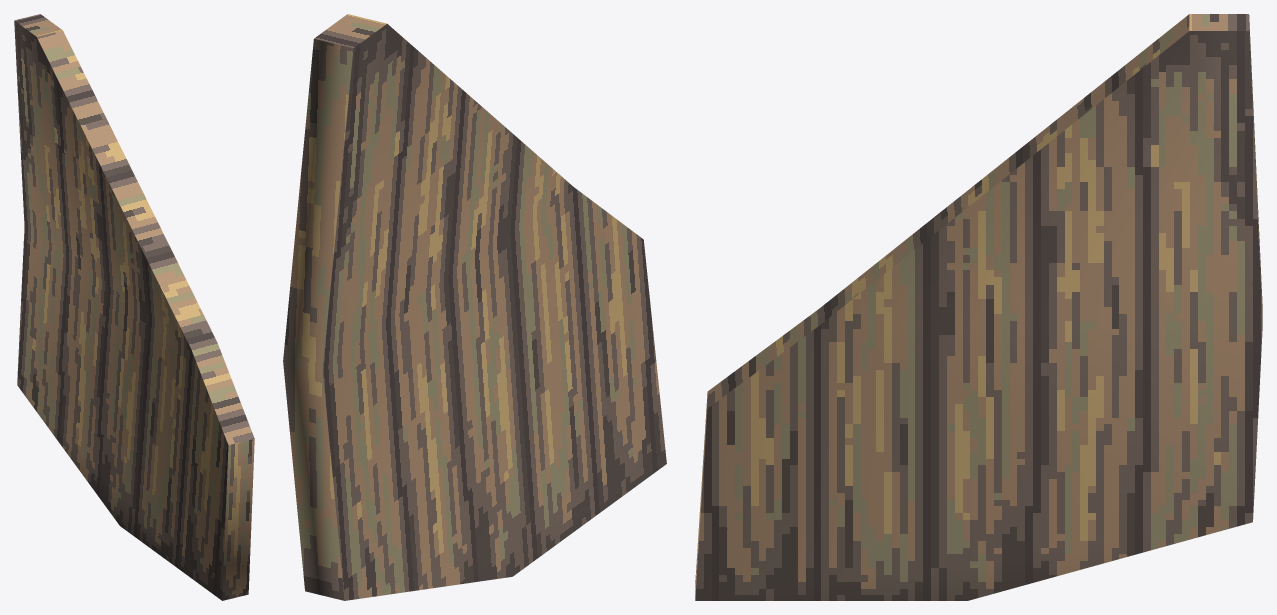
File: barrel_gib_03.glb
3 renders of one model, left to right at view 1: azimuth 30°, elevation 25°; view 2: azimuth 150°, elevation 25°; view 3: azimuth 270°, elevation 25°, orthographic. The views are drawn at different scales.
Parts seen in each view (by area): view 1: gib#2; view 2: gib#2; view 3: gib#2.
Boxes of the visible parts, x1,y1,x2,y2 form: gib#2: [14, 14, 254, 600]; gib#2: [283, 14, 666, 600]; gib#2: [695, 14, 1262, 600].
Size of the model in its own units: 0.0804 by 0.7897 by 0.7126.
Materials: 1 (1 with a texture image).
